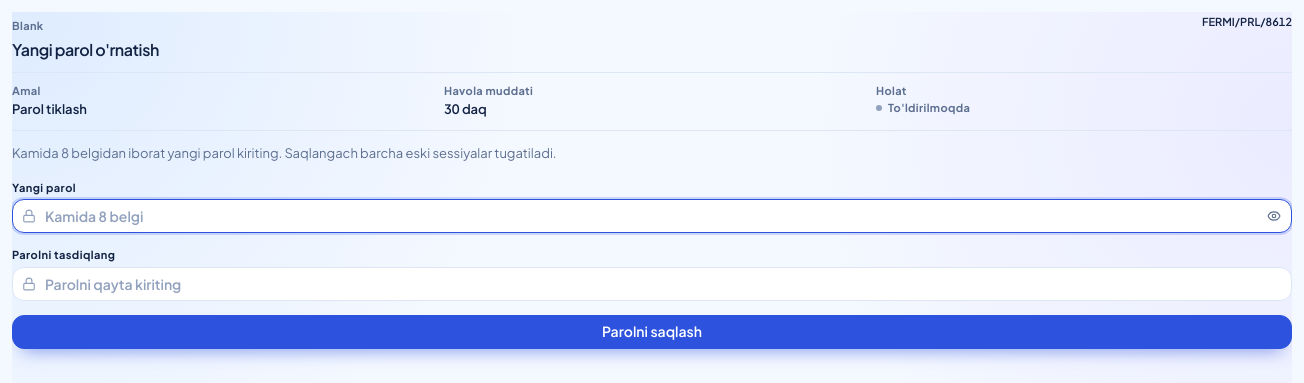
Scenario: ResetPasswordPage › muddati tugagan havolada (400) formani emas, tushuntirish ekranini ko'rsatadi
Type "parol12345" into the password field labelled "Yangi parol" at [652, 216], box [12,199,1292,233]
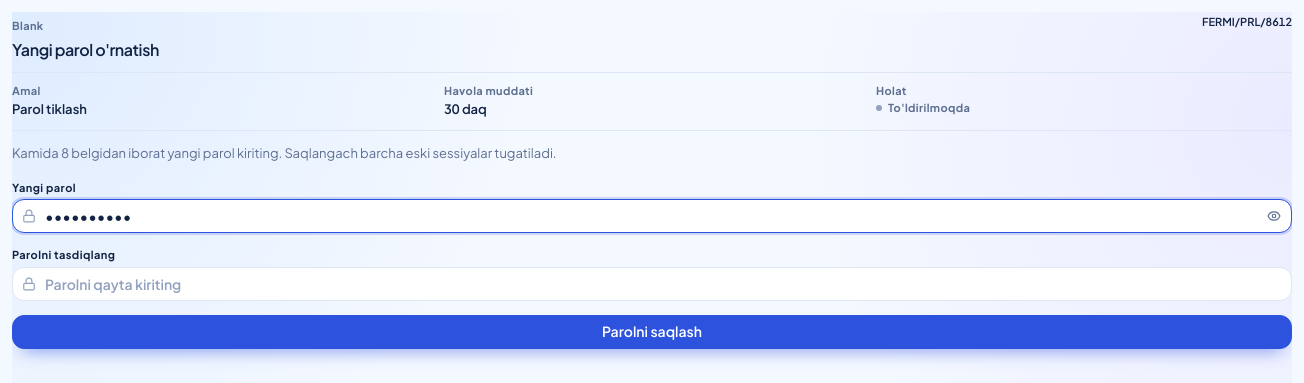
Type "parol12345" into the password field labelled "Parolni tasdiqlang" at [652, 284], box [12,267,1292,301]
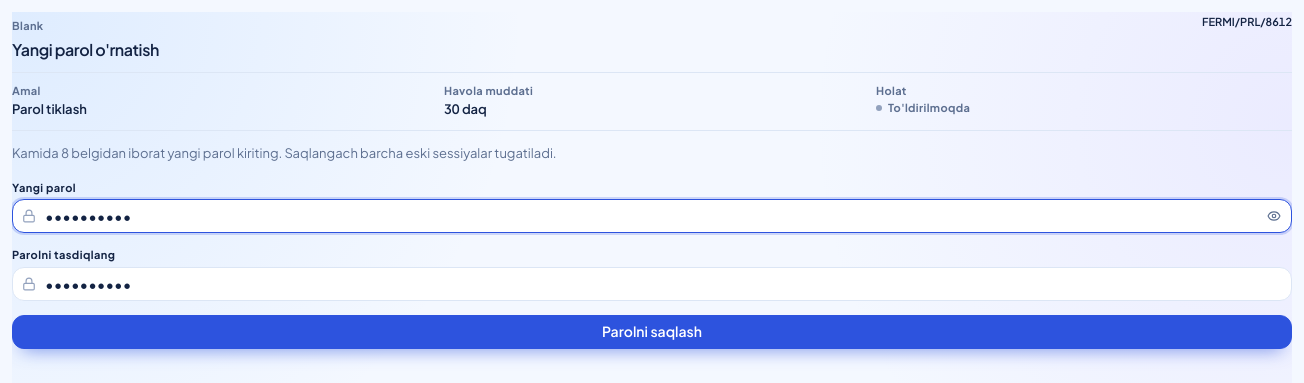
Click the button "Parolni saqlash" at [652, 332], box [12,315,1292,349]
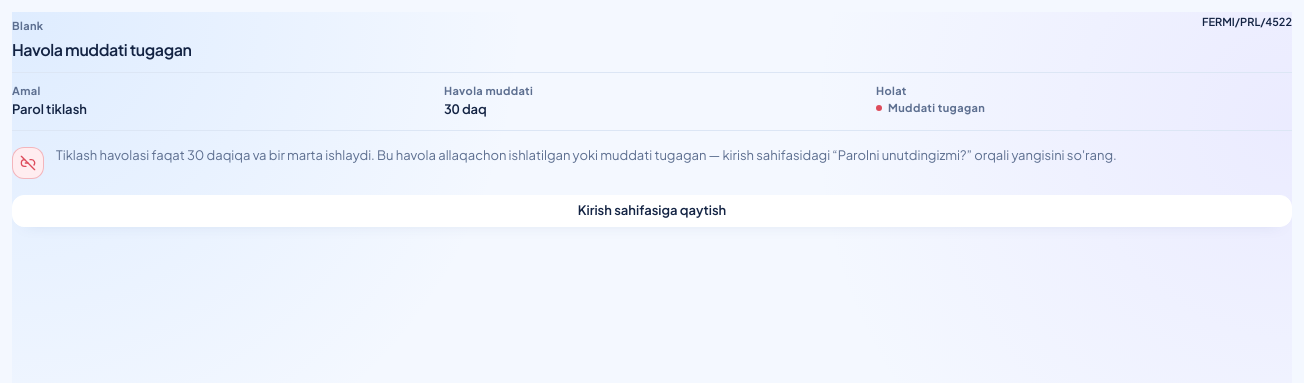
Check: the heading "Havola muddati tugagan" is shown, box [12,39,192,60]
Check: the text "Parolni unutdingizmi" is shown, box [56,147,1117,163]
Check: the label labelled "Parolni tasdiqlang" is gone
